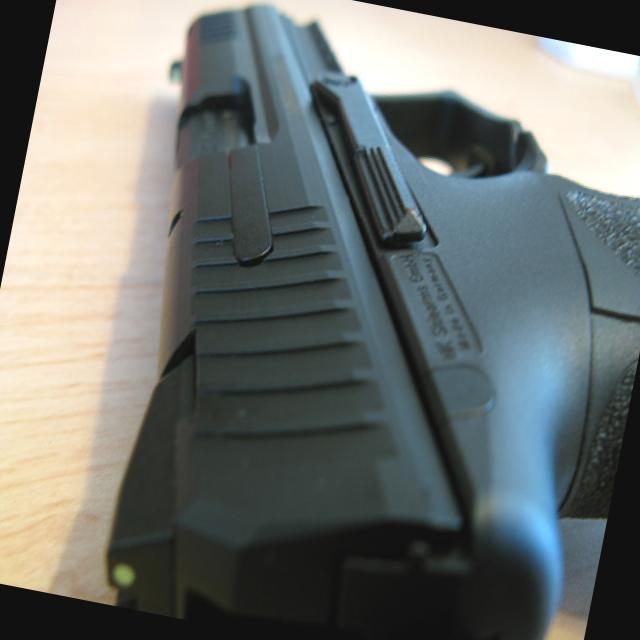handgun: (65, 0, 639, 639)
